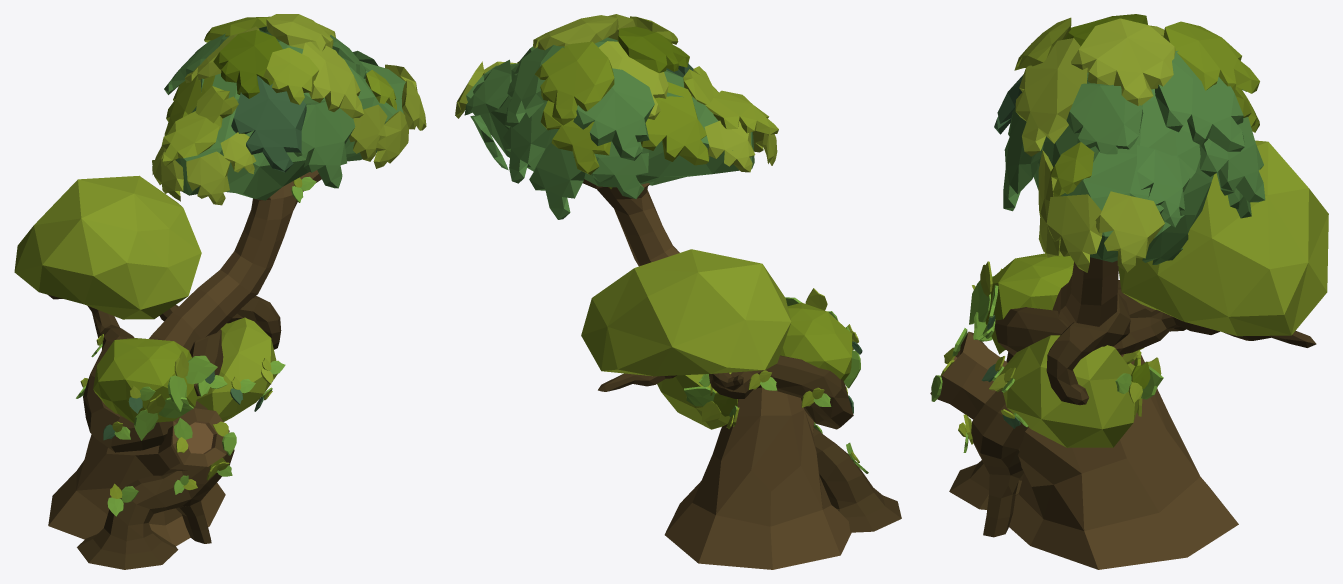
Rendered from EM_Tree4b.fbx.
3 renders of one model, left to right at view 1: azimuth 30°, elevation 25°; view 2: azimuth 150°, elevation 25°; view 3: azimuth 270°, elevation 25°, orthographic. The views are drawn at different scales.
Parts seen in each view (by area): view 1: EM_Tree4b_LOD0; view 2: EM_Tree4b_LOD0; view 3: EM_Tree4b_LOD0.
Part boxes in pixels (x1,y1,x2,y2): EM_Tree4b_LOD0: [14, 14, 426, 569]; EM_Tree4b_LOD0: [455, 14, 901, 569]; EM_Tree4b_LOD0: [930, 14, 1328, 569].
Size of what is drawn, in the model's own units: 5.75 by 6.61 by 4.05.
